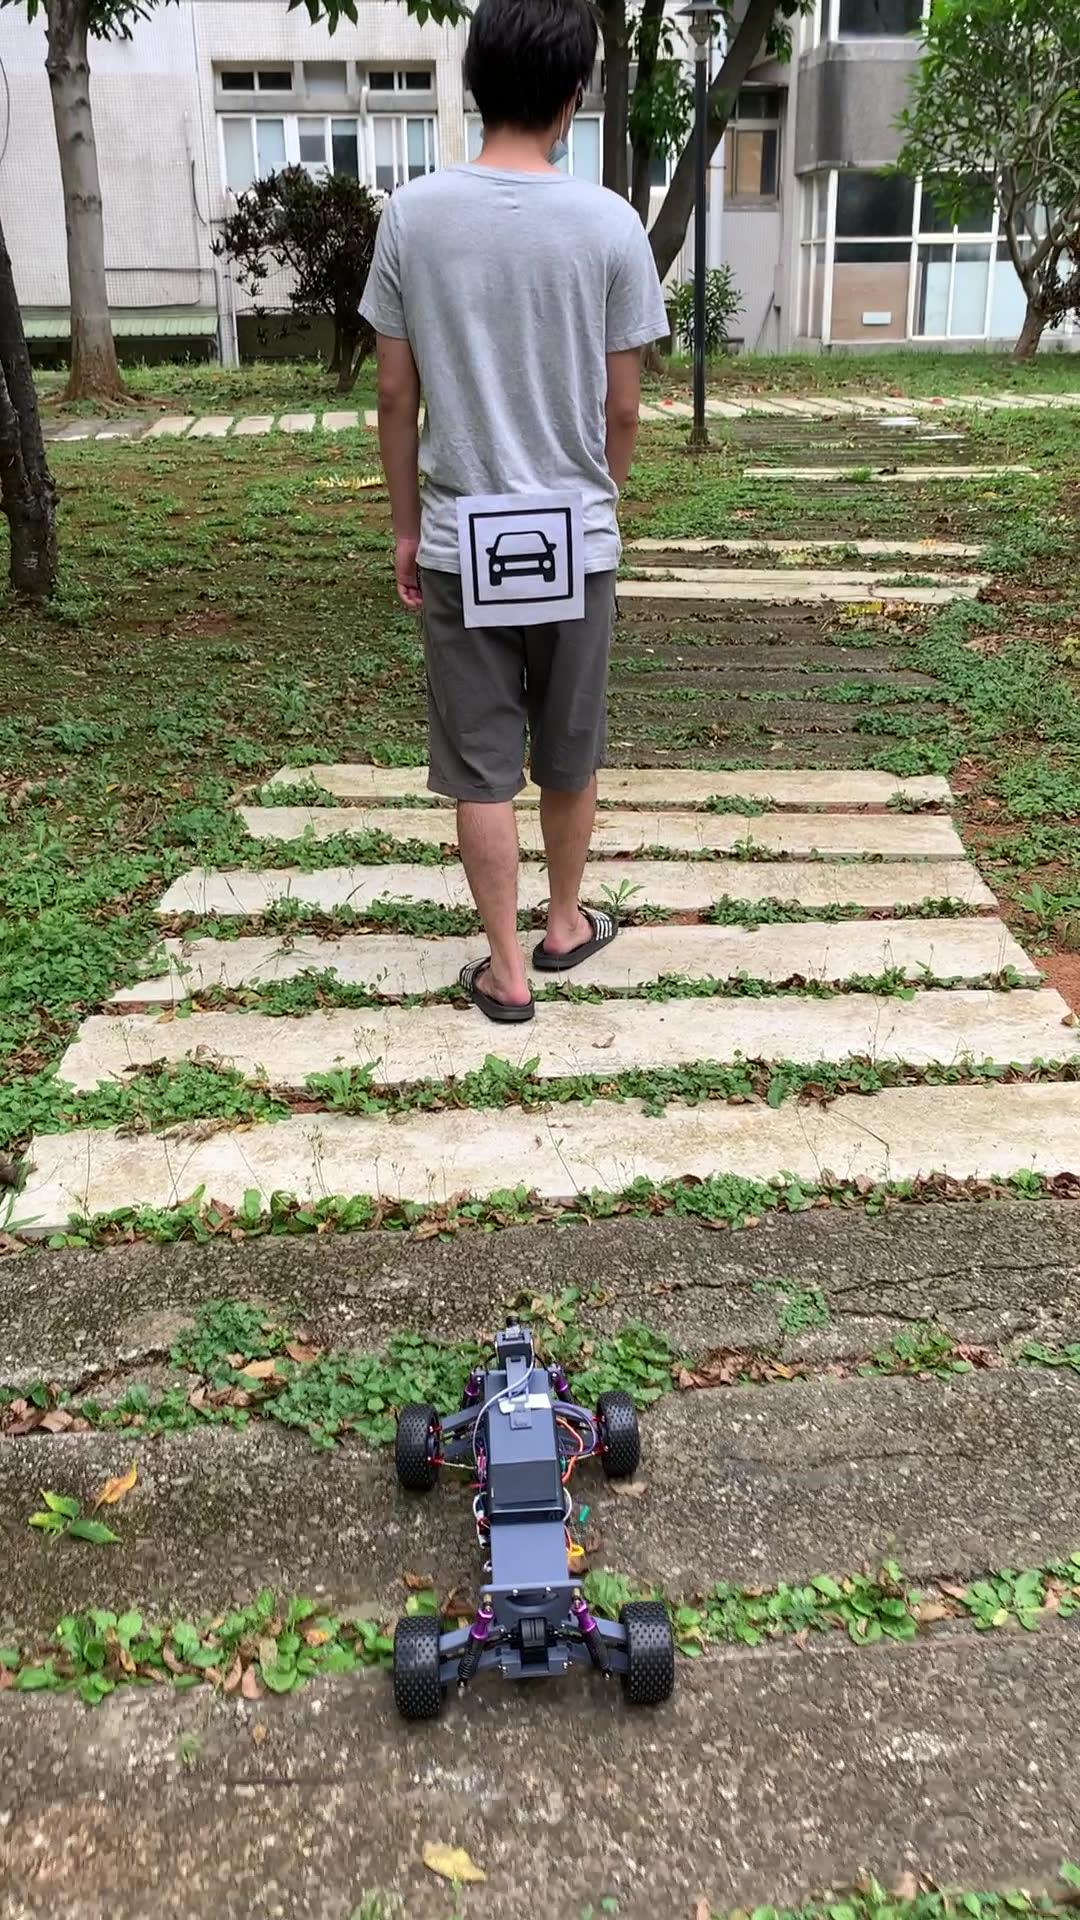car_img: (468, 506, 574, 607)
